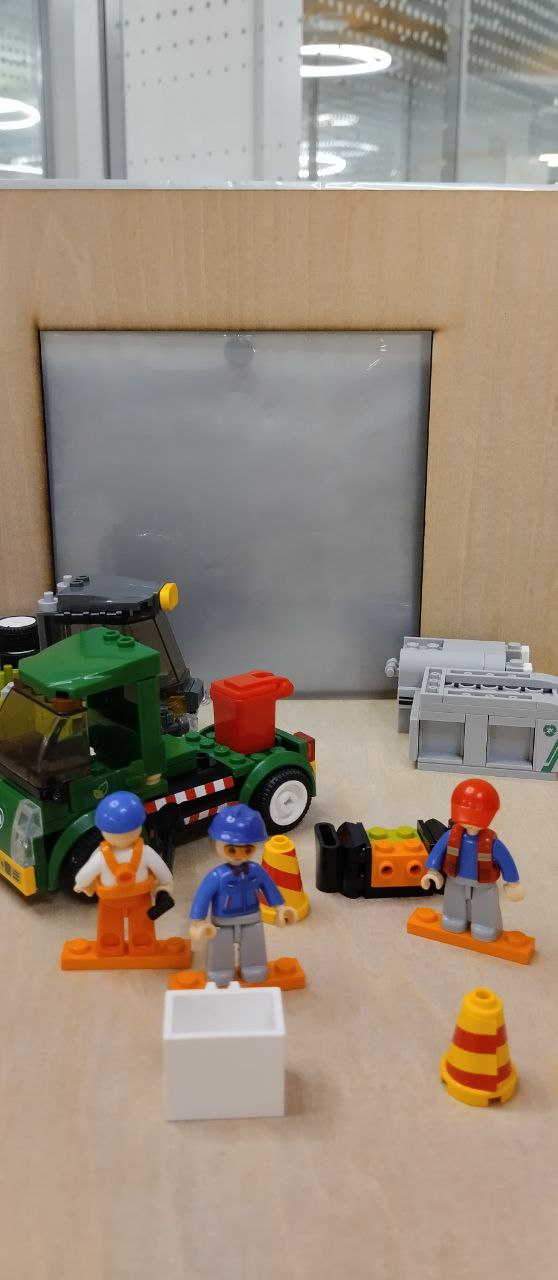Cone: (441, 987, 521, 1107), (250, 833, 314, 928)
Crane: (0, 573, 209, 745)
Object Black: (313, 820, 486, 898)
Object Red: (209, 670, 295, 754)
Object white: (156, 978, 284, 1126)
Truck: (3, 623, 316, 876)
